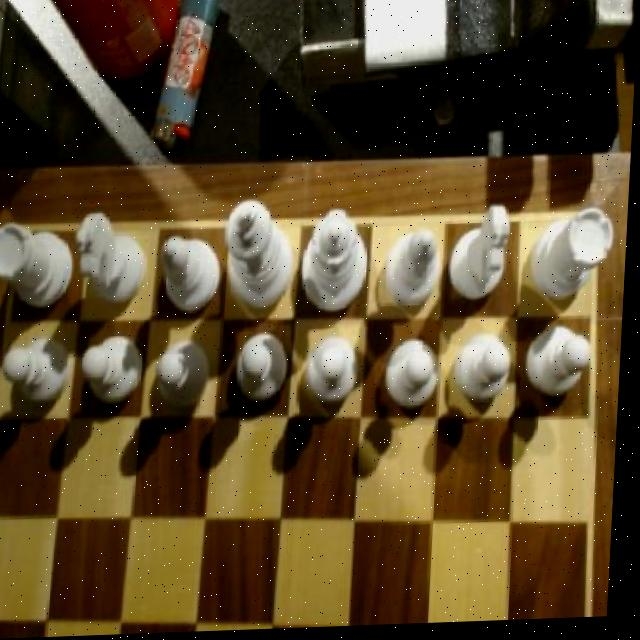black-rook: (161, 231, 229, 319), (385, 225, 447, 320)
white-bishop: (224, 192, 302, 322)
white-king: (77, 207, 154, 313), (453, 208, 521, 308)
white-knight: (527, 324, 602, 417), (4, 330, 81, 419), (79, 323, 152, 409), (454, 334, 519, 419), (238, 325, 297, 415), (384, 339, 448, 421), (307, 332, 368, 418), (157, 336, 215, 417)
white-pawn: (300, 202, 378, 325)
white-queen: (531, 208, 621, 316), (0, 213, 80, 314)
